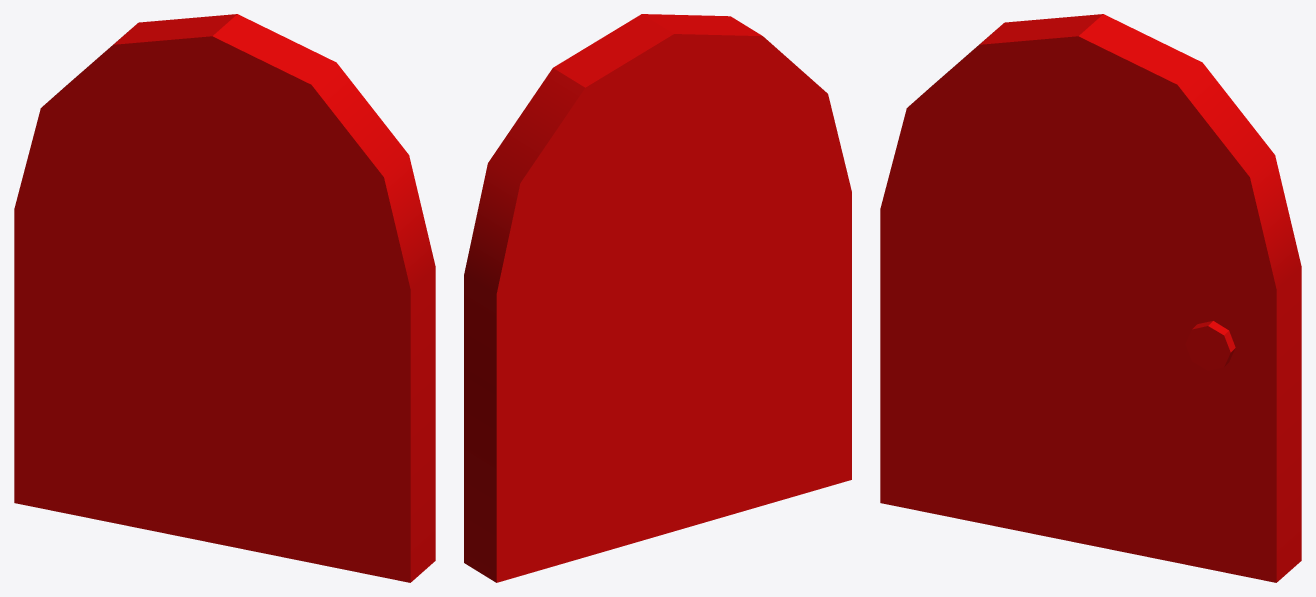
File: Collider_Door.glb
3 renders of one model, left to right at view 1: azimuth 90°, elevation 25°; view 2: azimuth 150°, elevation 25°; view 3: azimuth 270°, elevation 25°, orthographic.
Visible parts, largest first — view 1: Collider_Door; view 2: Collider_Door; view 3: Collider_Door.
Part boxes in pixels (bbox=[...]): Collider_Door: bbox=[14, 14, 435, 582]; Collider_Door: bbox=[464, 14, 851, 582]; Collider_Door: bbox=[880, 14, 1301, 582].
Size of the model in its own units: 1.16 by 2.69 by 2.02.
